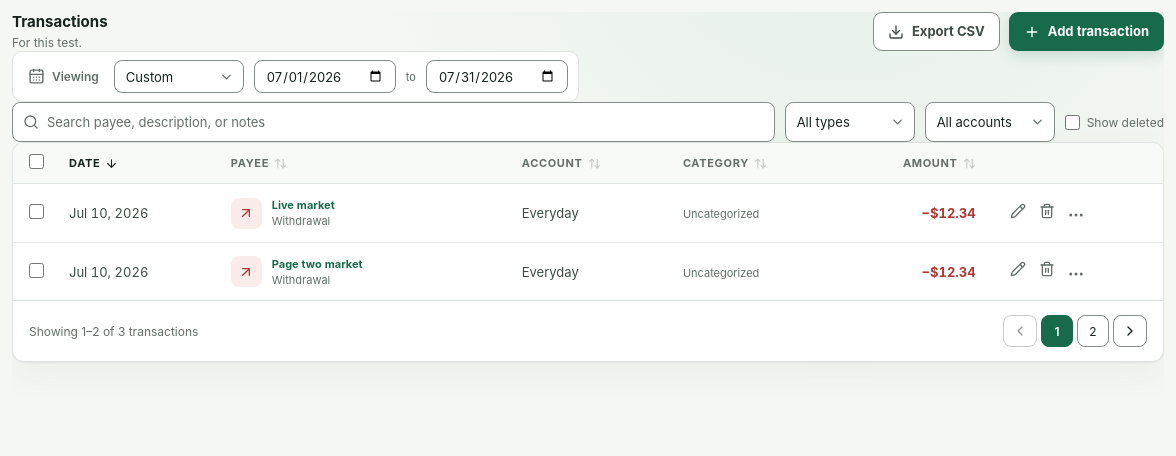
Test: entries on a frozen account, in the transaction list › blocks a filter selection once a page it turns to shows a frozen row
Expected: the button named "Edit " is enabled, [1004, 196, 1033, 225]
Click the checkbox named "Select transaction Live market, Jul 10, 2026, Everyday, 4444" at (36, 212), box [28, 204, 44, 219]
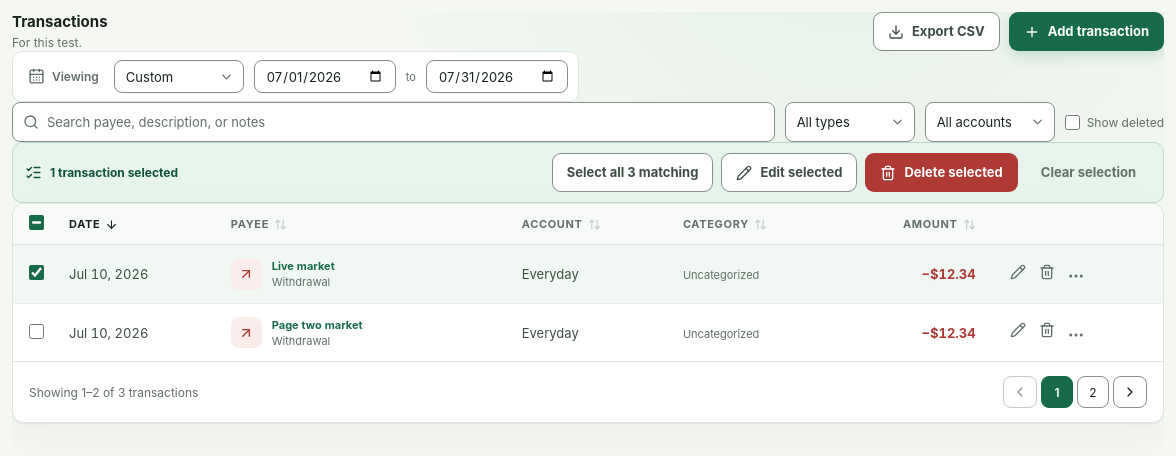
Click the button "Select all 3 matching" at (632, 173), box [552, 153, 713, 192]
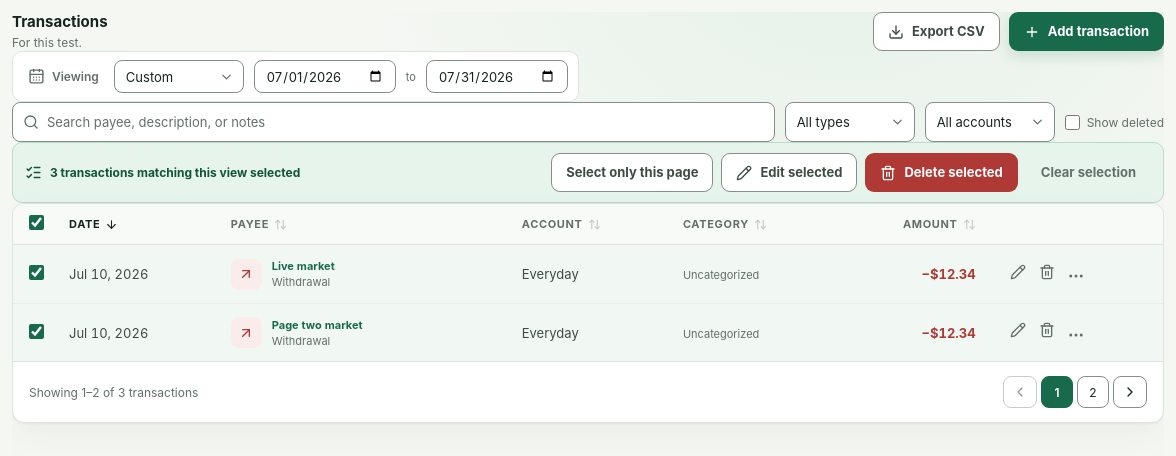
Expected: the button "Delete selected" is enabled, [865, 153, 1018, 192]
Expected: the button "Edit selected" is enabled, [721, 153, 857, 192]
Expected: the text "3 transactions matching this view selected" is shown, [50, 165, 300, 180]
Click the button named "Next page" at (1130, 392), box [1113, 376, 1147, 408]
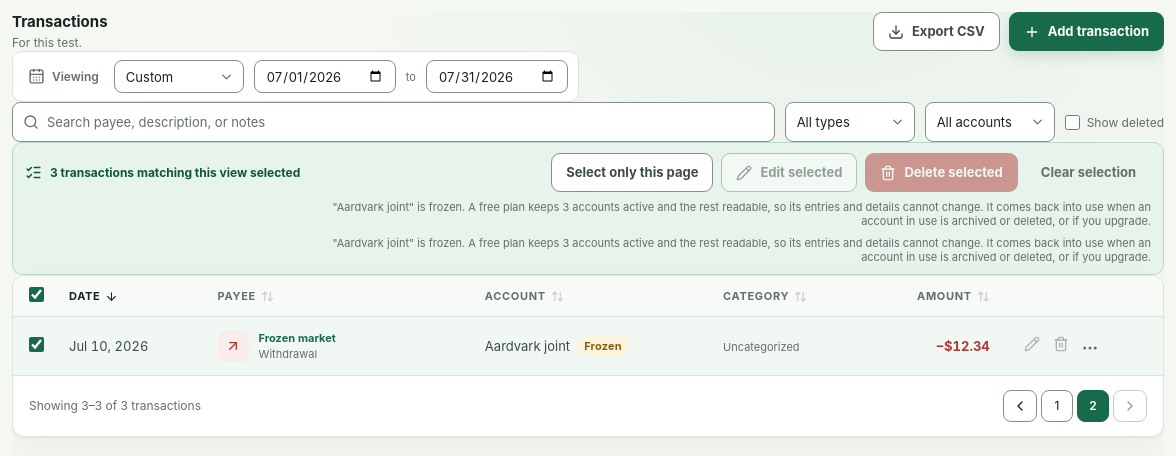
Expected: the checkbox named "Select transaction Frozen market, Jul 10, 2026, Aardvark joi" is checked, [28, 337, 44, 352]
Expected: the button "Delete selected" is disabled, [865, 153, 1018, 192]
Expected: the button "Edit selected" is disabled, [721, 153, 857, 192]
